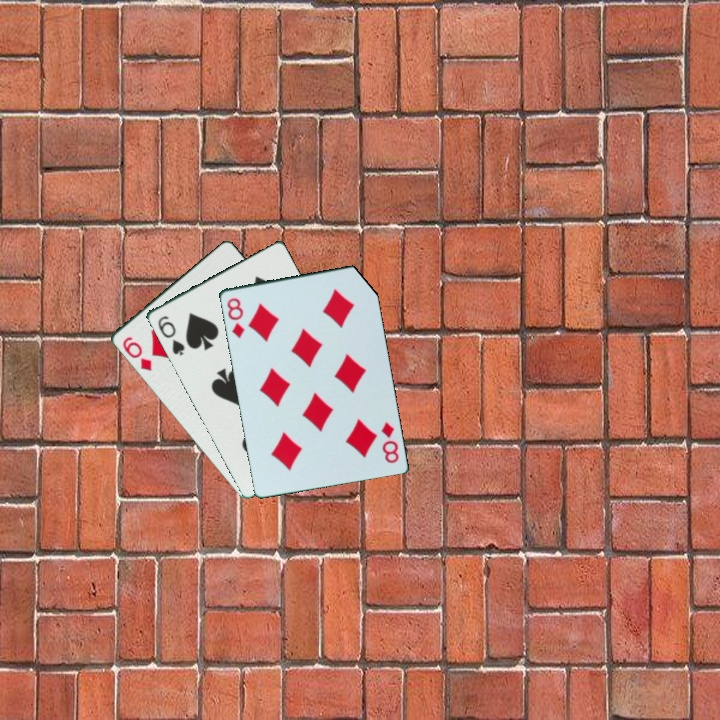6d: (118, 333, 154, 374)
6s: (154, 312, 187, 359)
8d: (377, 418, 401, 466), (223, 294, 247, 341)
